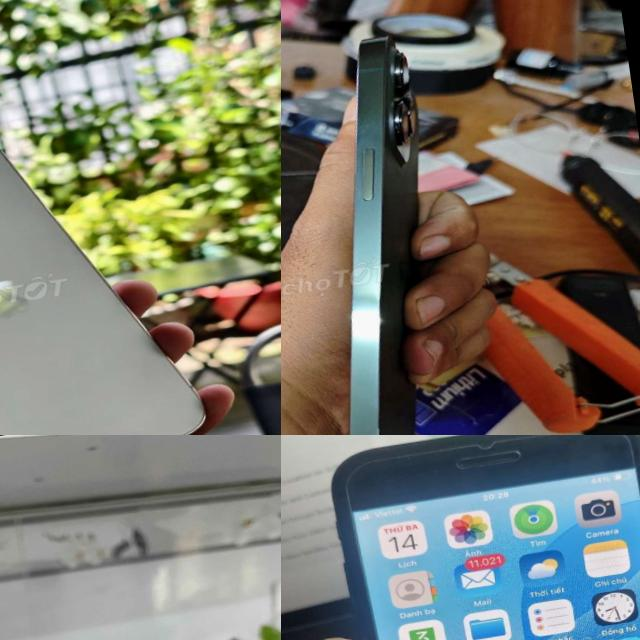gen_12_13: (281, 32, 504, 435), (0, 97, 219, 435), (0, 582, 250, 640)
scratch: (318, 435, 640, 640)
